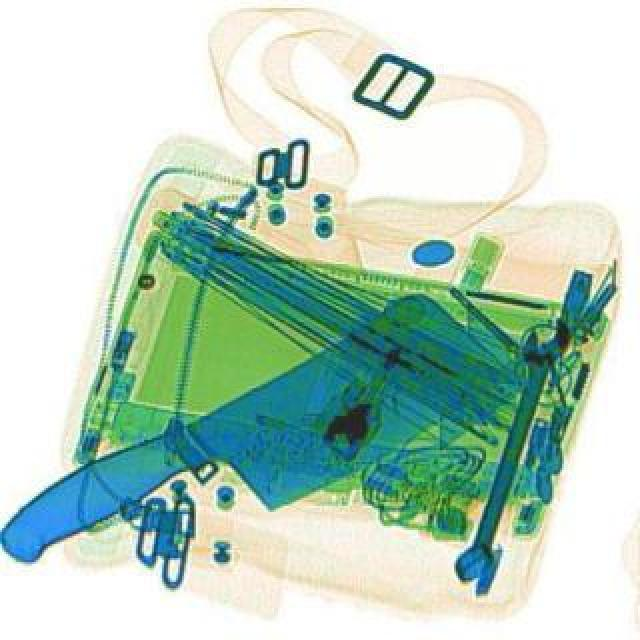knife: (2, 286, 518, 618)
scissors: (452, 320, 578, 594)
